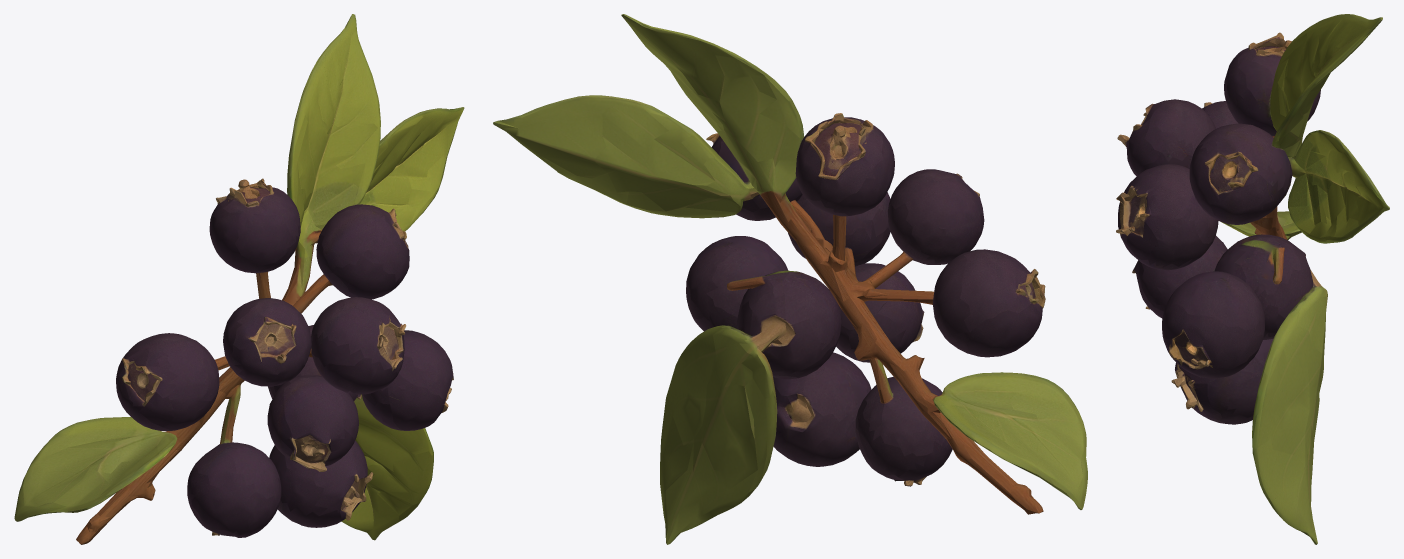
File: ITM_PURPLE_BERRY_001.glb
3 renders of one model, left to right at view 1: azimuth 30°, elevation 25°; view 2: azimuth 150°, elevation 25°; view 3: azimuth 270°, elevation 25°, orthographic. The views are drawn at different scales.
Bounding box in the file's own units: 1.9 × 1.85 × 0.8654.
1 material, 1 textured.
